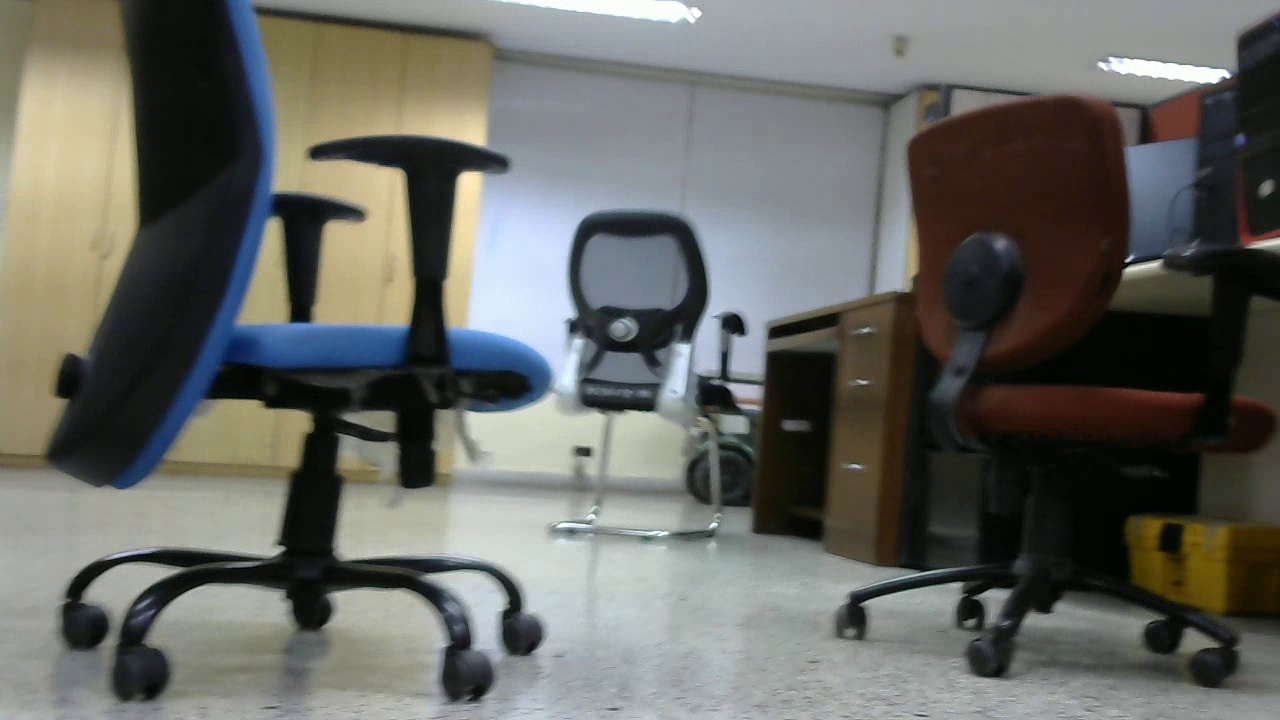chair: (61, 4, 548, 691), (888, 97, 1246, 682), (546, 198, 734, 541)
